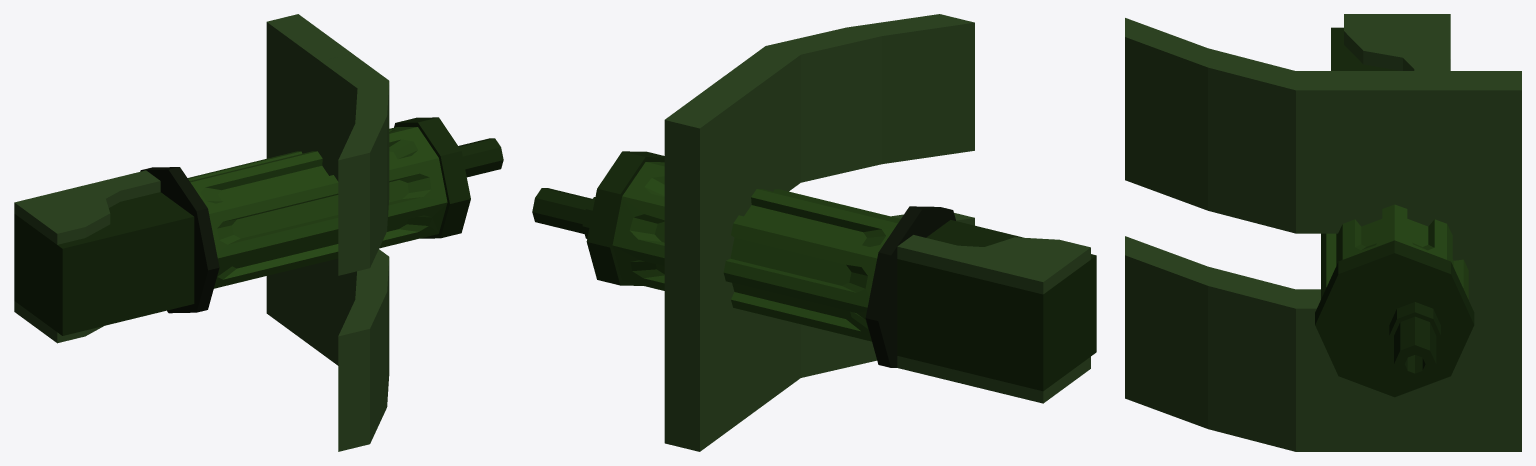
Rendered from turret3_head.obj.
3 renders of one model, left to right at view 1: azimuth 30°, elevation 25°; view 2: azimuth 150°, elevation 25°; view 3: azimuth 270°, elevation 25°, orthographic. The views are drawn at different scales.
Parts seen in each view (by area): view 1: Circle.009; view 2: Circle.009; view 3: Circle.009.
Part boxes in pixels (box(x1,y1,x2,y2)): Circle.009: box(14, 14, 503, 451); Circle.009: box(532, 14, 1096, 451); Circle.009: box(1125, 14, 1521, 451).
Bounding box in the file's own units: 2.85 × 1.71 × 1.7.
